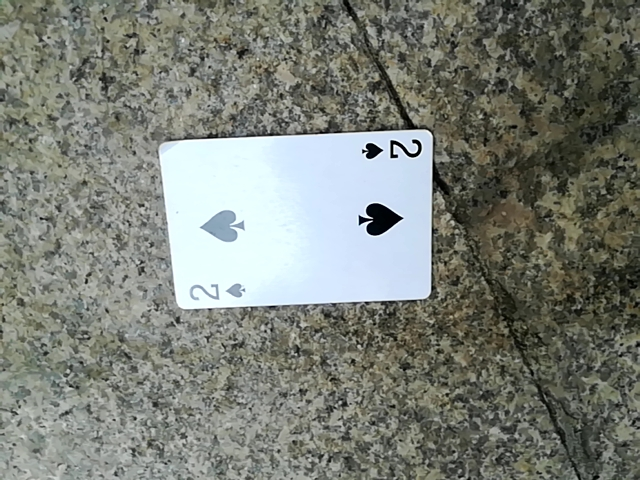ht 2: (155, 133, 429, 314)
